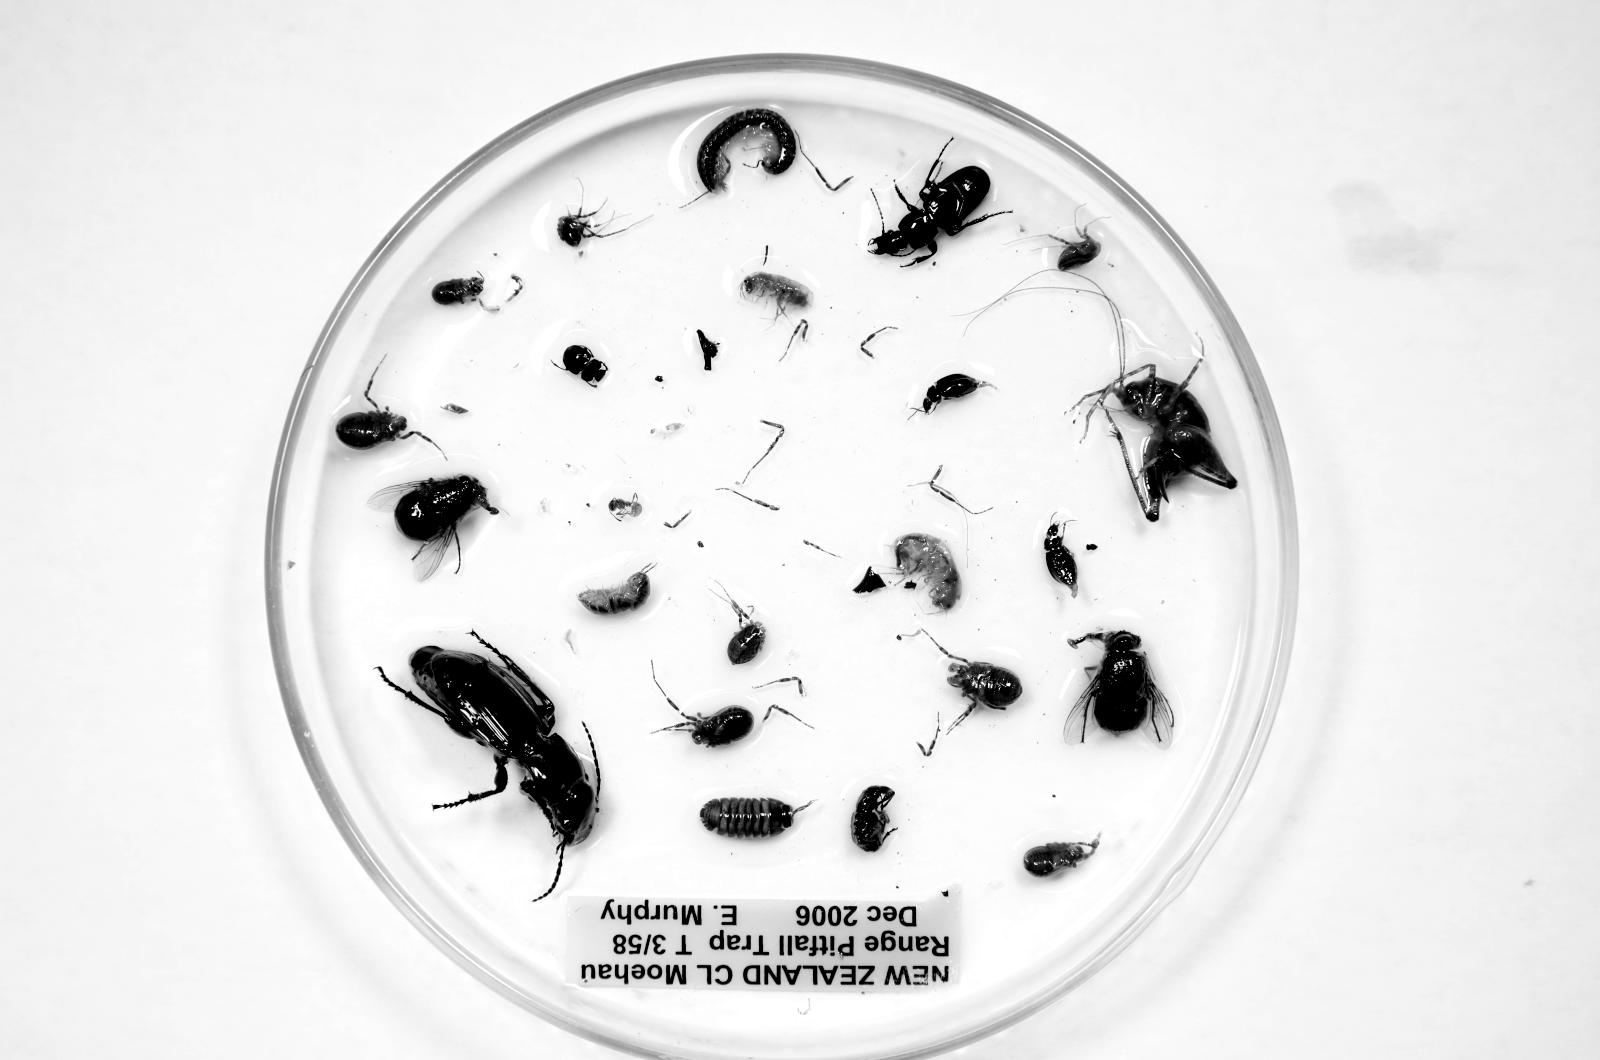amphipoda: (892, 534, 961, 612), (740, 271, 812, 317)
carabidae: (376, 631, 600, 900), (869, 166, 991, 263)
coleoptera: (920, 373, 995, 413), (851, 786, 895, 852), (1044, 523, 1078, 596), (562, 344, 608, 387)
diplopoda: (697, 109, 797, 193)
diptera: (368, 474, 501, 580), (1065, 629, 1174, 743)
formicidae: (608, 493, 643, 521)
isopoda: (700, 796, 796, 839), (578, 562, 656, 614)
opiliones: (335, 394, 443, 453), (652, 703, 765, 748), (708, 579, 766, 665), (947, 660, 1022, 710), (1024, 834, 1100, 875), (1057, 234, 1101, 271), (432, 276, 484, 305), (557, 212, 601, 246)
orthoptera: (1083, 366, 1237, 522)
